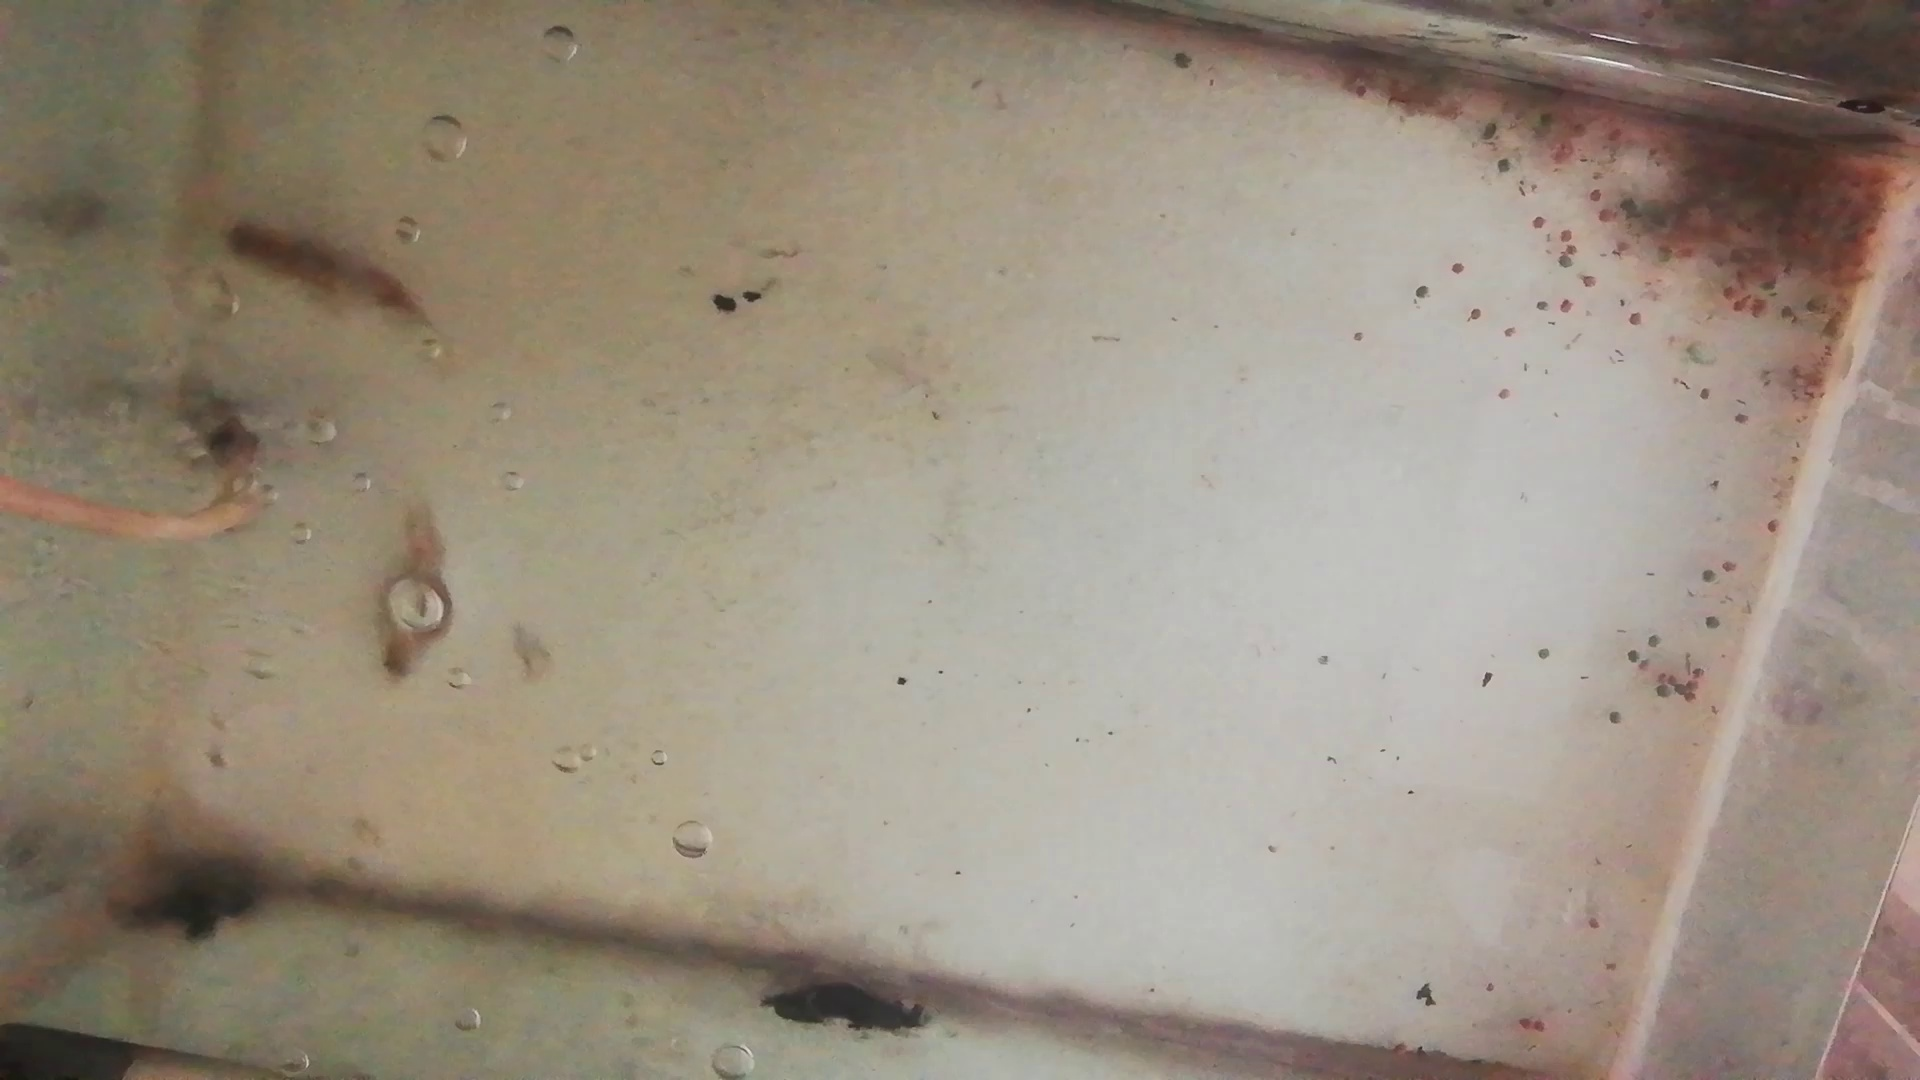fish: (218, 216, 433, 336), (378, 493, 448, 679)
